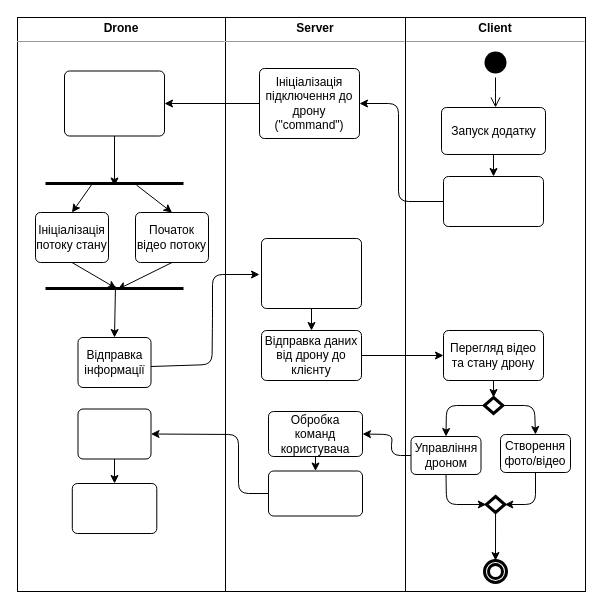
Some shapes in this 603 by 609 pixel diagram are drawn without their labels. The shapes that lost their labels are listed below. From the top down, each one's centre as x and y in pixels, then its label:
point 114,103: Отримання "command", створення підключення
point 493,201: Підключення до дрону
point 311,273: Обробка даних від дрону
point 114,433: Отримання команд
point 114,508: Зміна напрямку чи налаштувань
point 315,493: Відправка команд дрону
